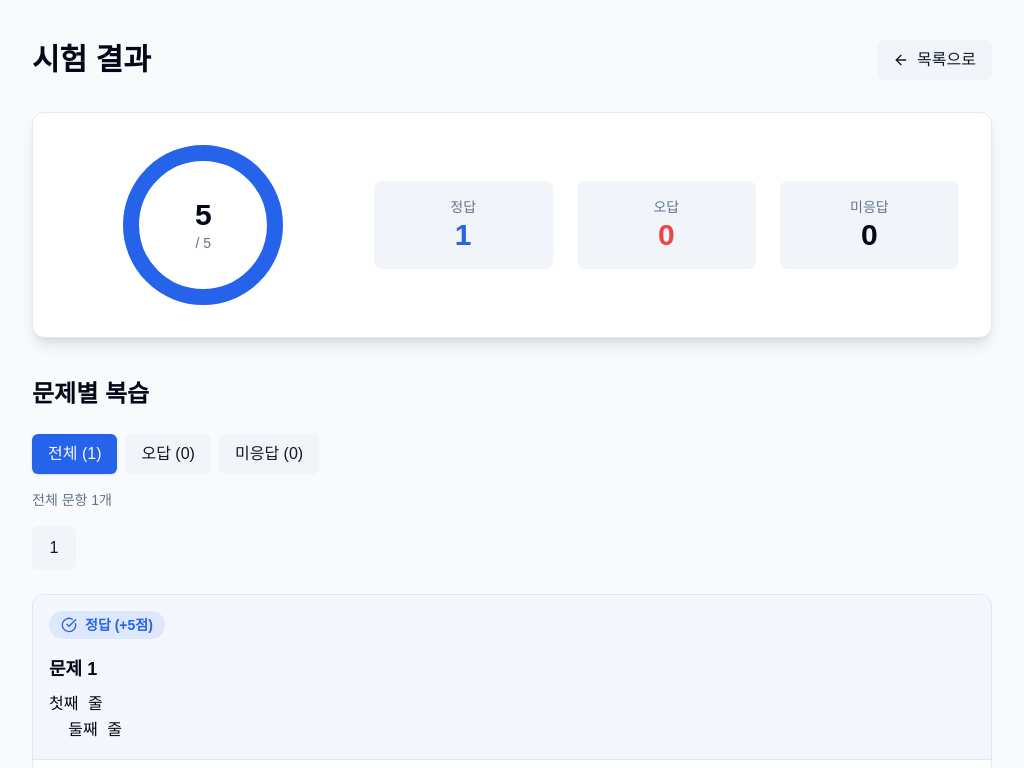
Test: explains empty filters and allows returning to all questions
Expected: the heading "문제 1" is shown, top-left (49, 659), bottom-right (97, 679)
Click the button "오답 (0)": (168, 454) top-left (126, 434), bottom-right (211, 474)
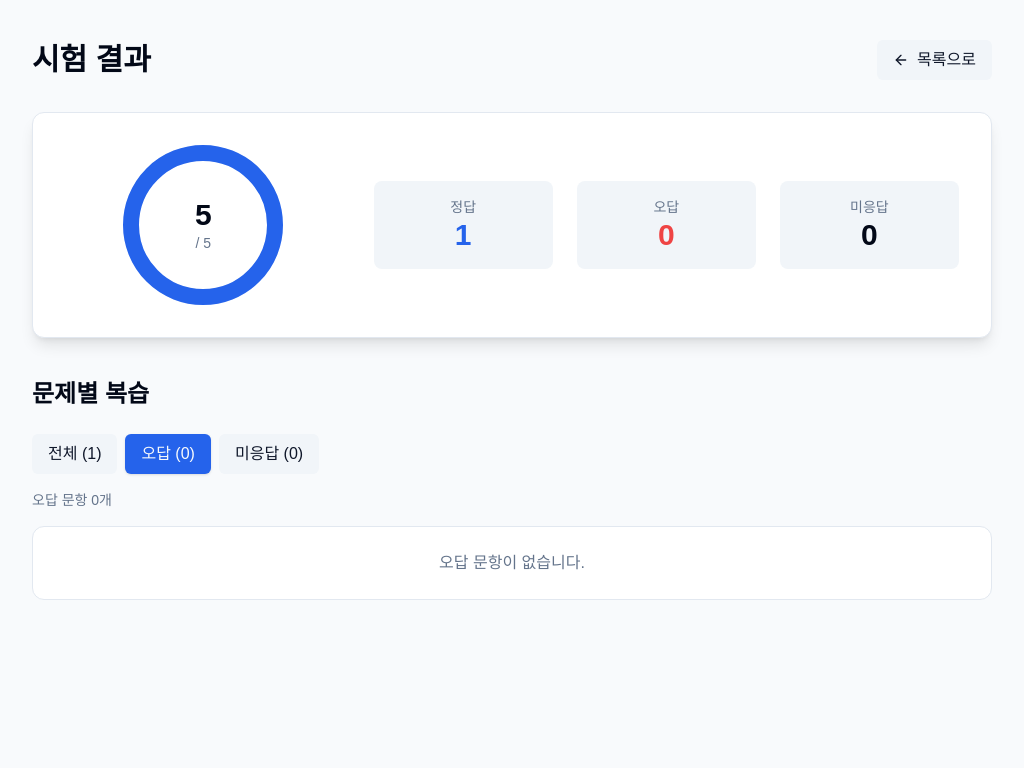
Result: the text "오답 문항이 없습니다." is shown at top-left (32, 526), bottom-right (992, 600)
Click the button "미응답 (0)": (269, 454) top-left (219, 434), bottom-right (319, 474)
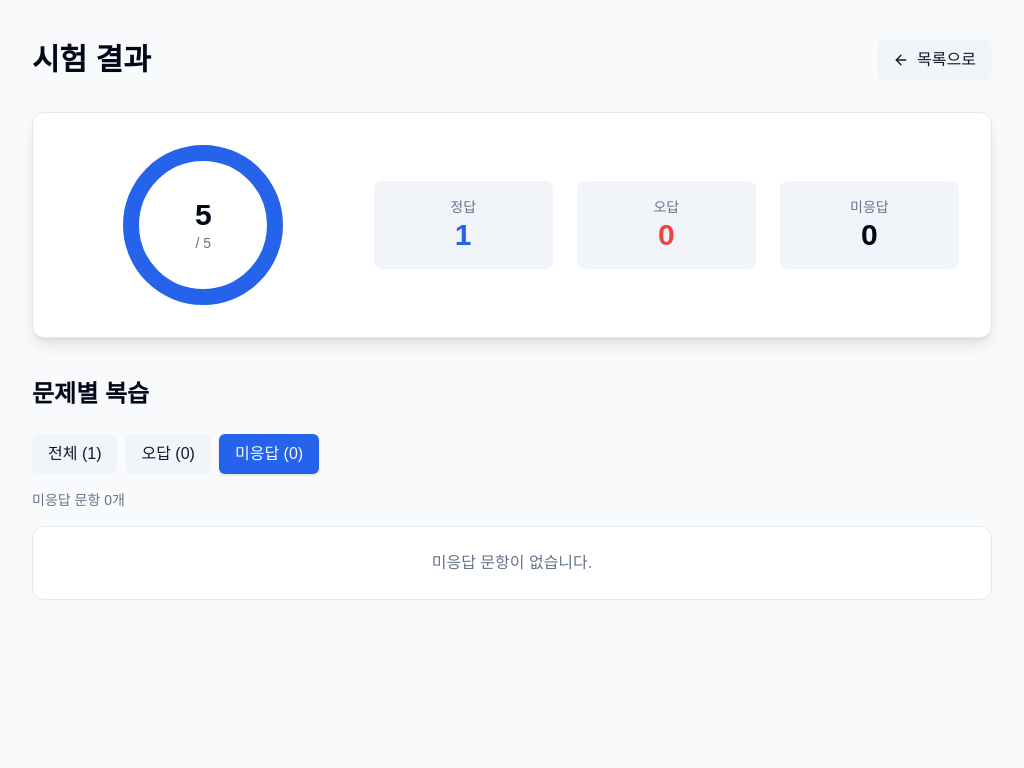
Result: the text "미응답 문항이 없습니다." is shown at top-left (32, 526), bottom-right (992, 600)
Click the button "전체 (1)": (75, 454) top-left (32, 434), bottom-right (118, 474)
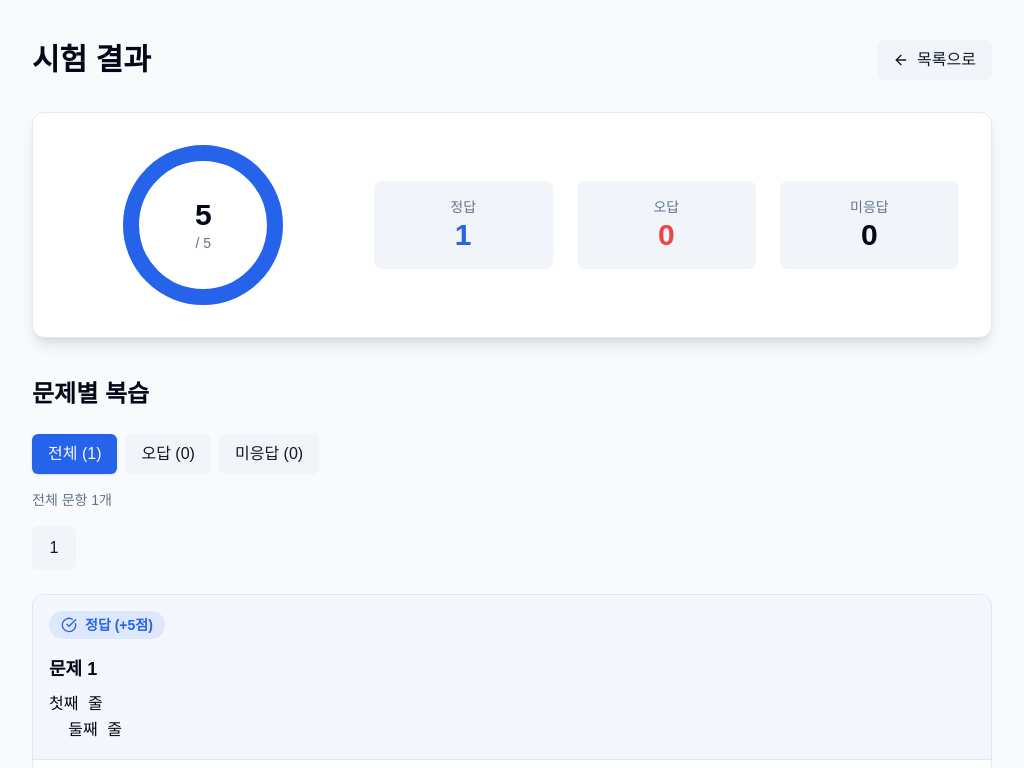
Result: the heading "문제 1" is shown at top-left (49, 659), bottom-right (97, 679)
